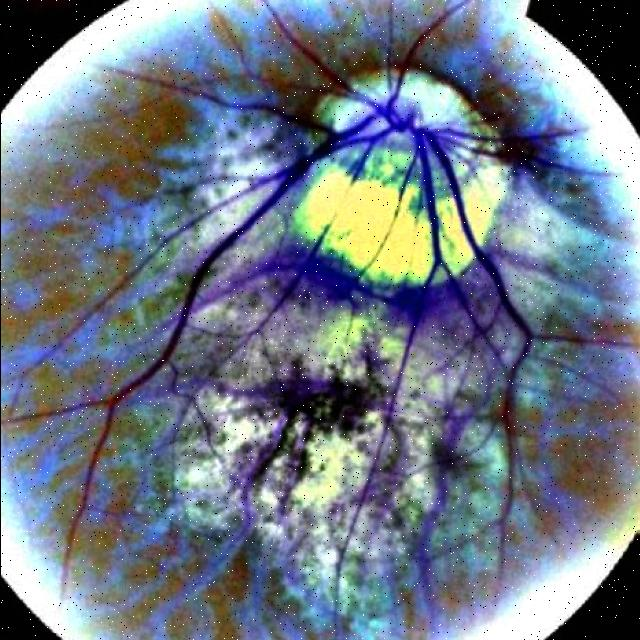Nerves: (70, 58, 533, 530)
Optic Disk: (293, 132, 434, 284), (393, 70, 503, 244), (426, 144, 472, 275), (313, 95, 371, 130), (352, 71, 397, 100)
